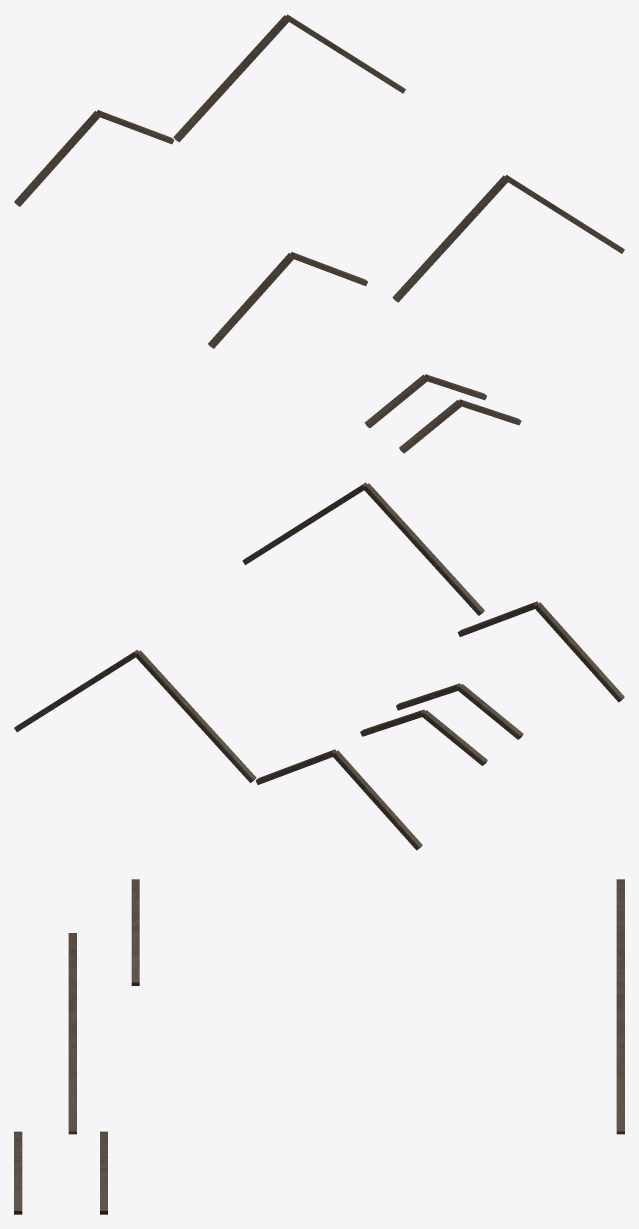
File: BW_Inn01_RoofTrim.fbx
The picture shows the model from 3 angles, top to bottom: view 1: azimuth 30°, elevation 25°; view 2: azimuth 150°, elevation 25°; view 3: azimuth 270°, elevation 25°; orthographic projection. The views are drawn at different scales.
Visible parts, largest first — view 1: BW_Inn01_RoofTrim; view 2: BW_Inn01_RoofTrim; view 3: BW_Inn01_RoofTrim.
Part boxes in pixels (bbox=[...]): BW_Inn01_RoofTrim: bbox=[14, 14, 624, 453]; BW_Inn01_RoofTrim: bbox=[14, 482, 624, 850]; BW_Inn01_RoofTrim: bbox=[14, 879, 624, 1214].
Size of the model in its own units: 10.27 by 5.8 by 11.17.
